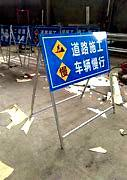sign: (44, 34, 109, 75)
